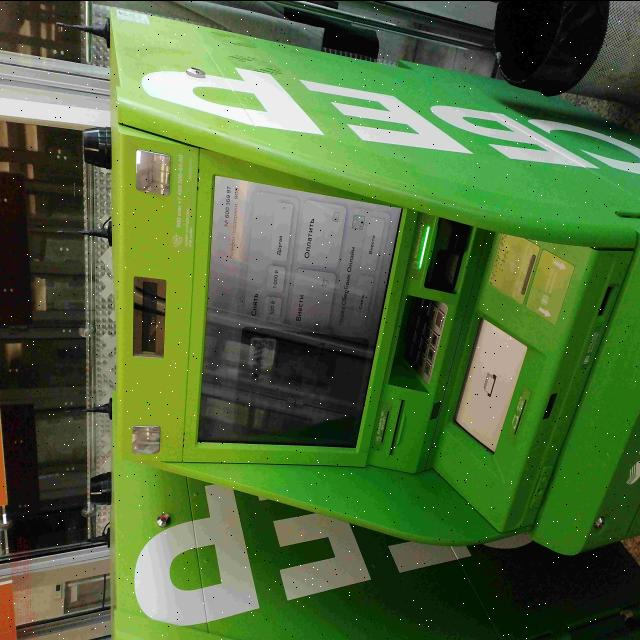bank: (110, 9, 640, 556), (107, 406, 640, 640)
